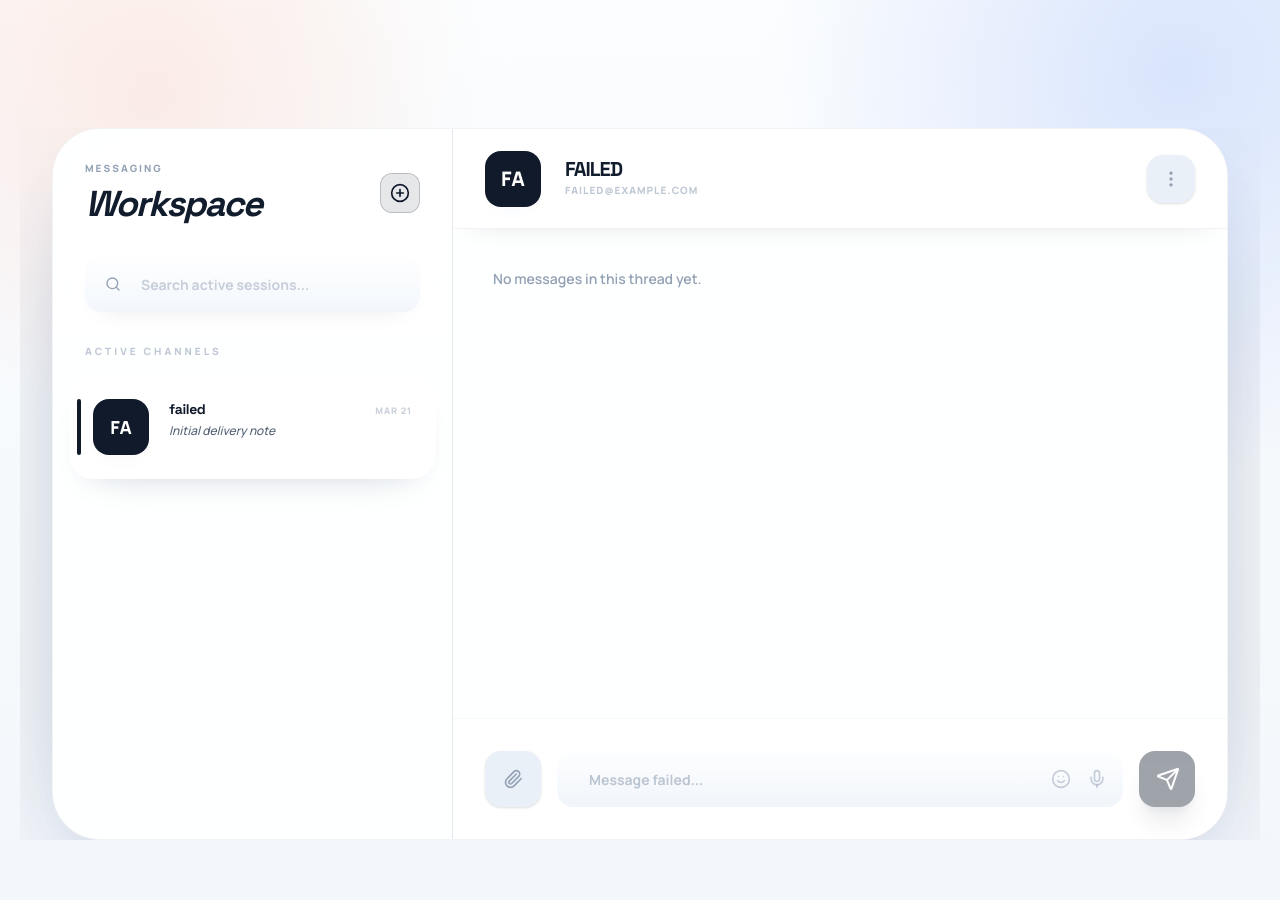
Messaging flow from hiring links › keeps a failed outgoing message in the thread and retries it
This screenshot has width=1280, height=900.
Expected: the text "Initial delivery note" is shown, top-left (169, 422), bottom-right (275, 439)
Type "Retry the brief please." into the field with placeholder "Message failed..." at x=840, y=779, box top-left (557, 751), bottom-right (1123, 807)
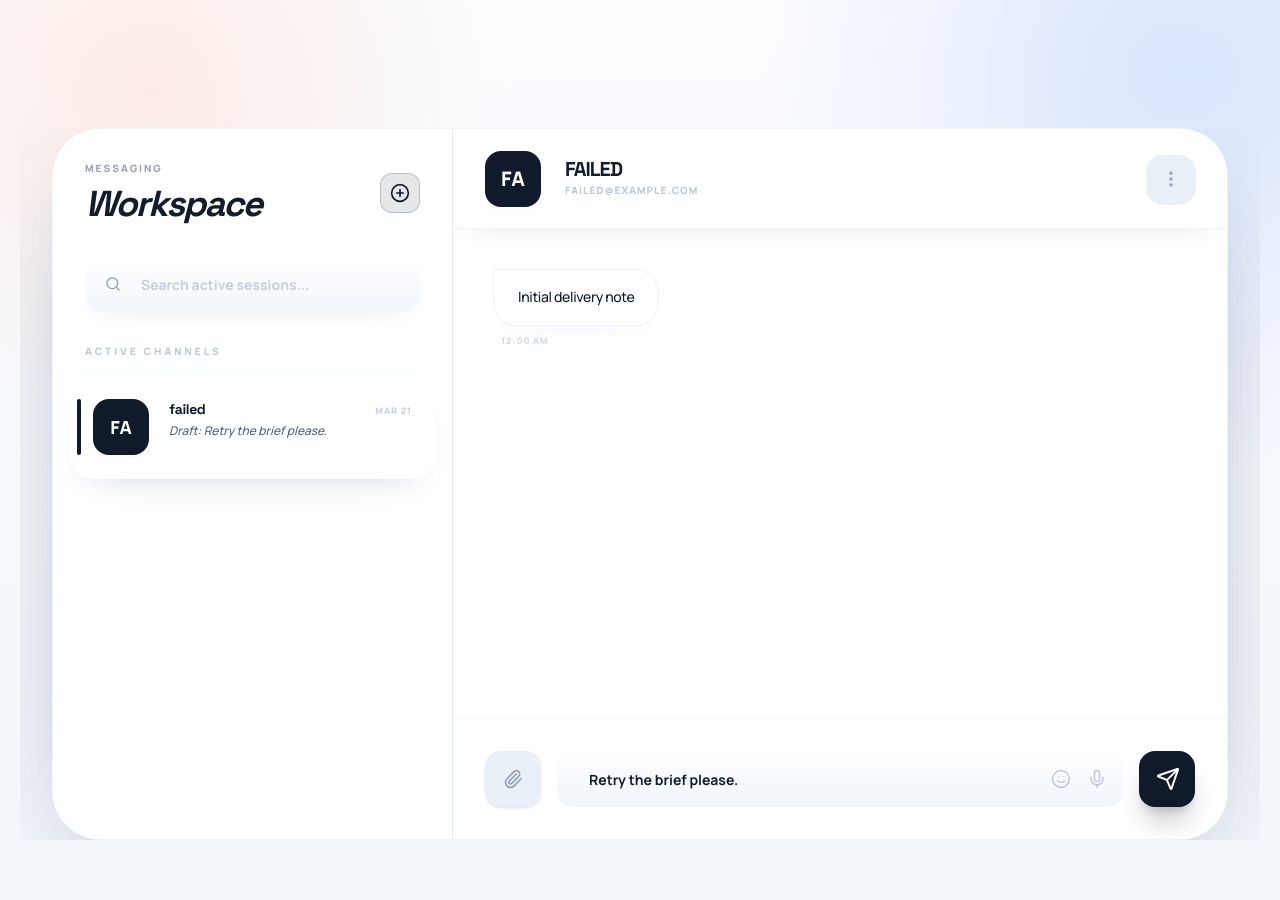
Press Enter in the field with placeholder "Message failed...", box top-left (557, 751), bottom-right (1123, 807)
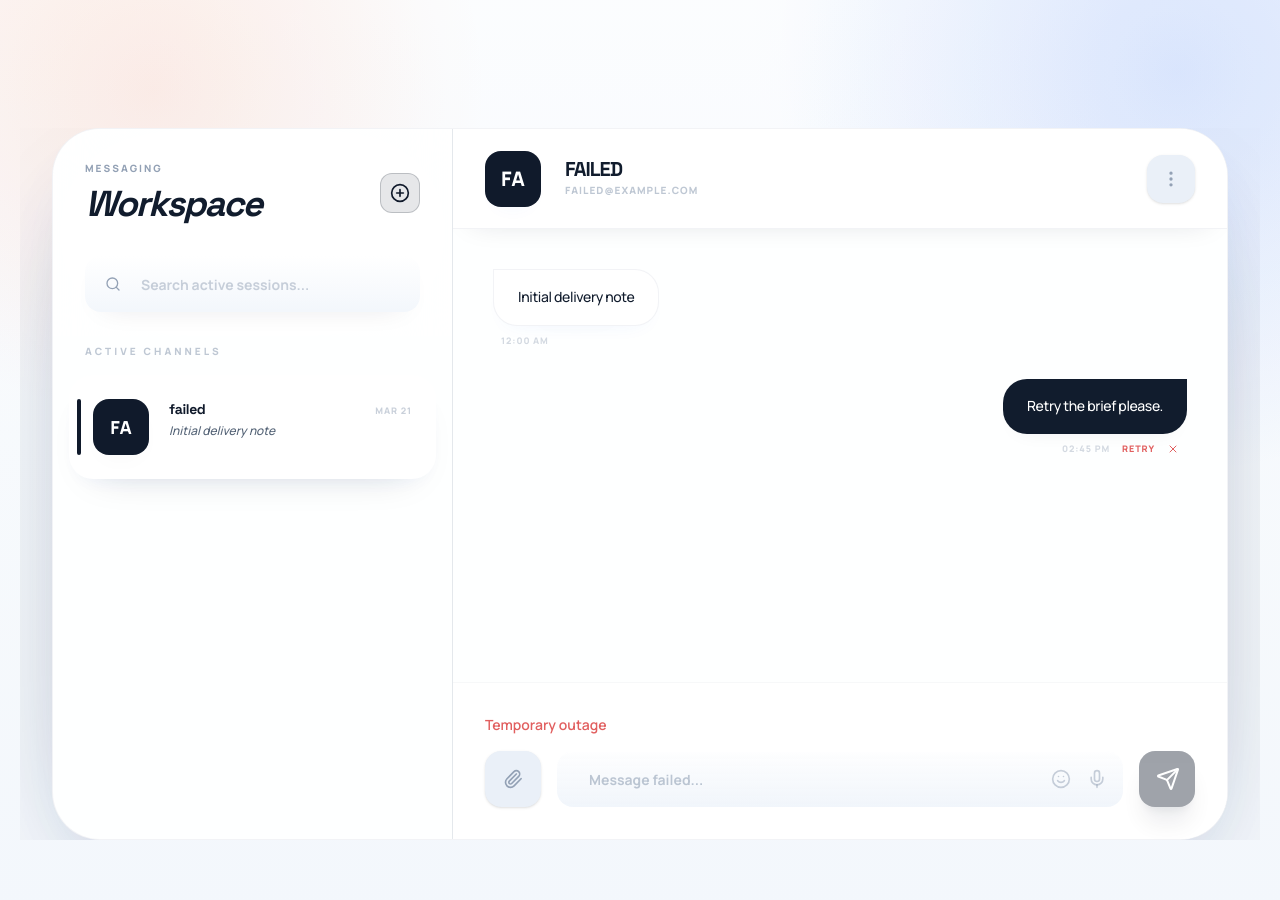
Result: the button "Retry" is shown
Result: the text "Temporary outage" is shown at top-left (485, 715), bottom-right (607, 734)
Result: the text "Retry the brief please." is shown once at top-left (1027, 395), bottom-right (1163, 418)
Click the button "Retry" at x=1139, y=449, box top-left (1122, 442), bottom-right (1155, 456)
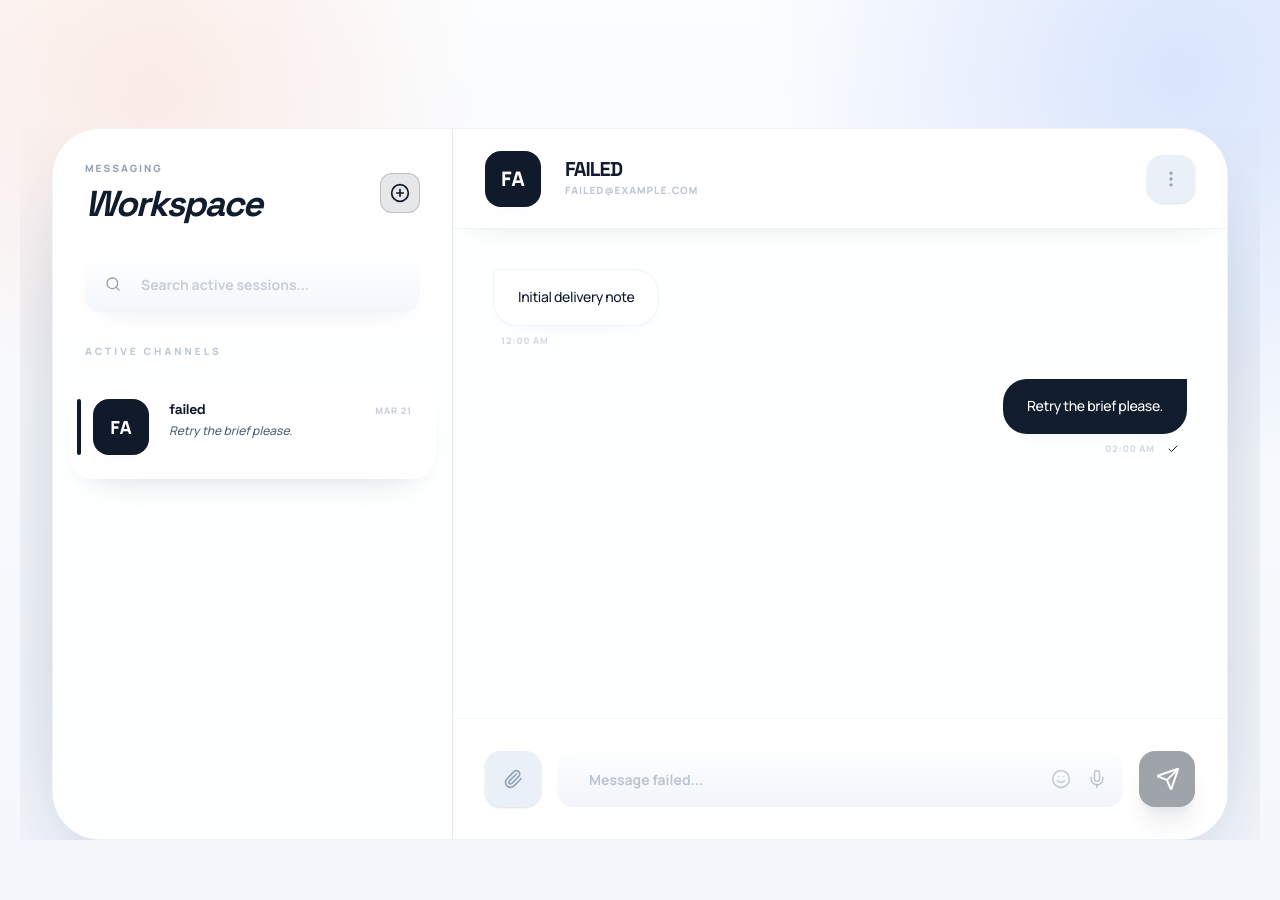
Expected: the text "Retry the brief please." is shown 2 times, top-left (169, 422), bottom-right (292, 439); top-left (1027, 395), bottom-right (1163, 418)
Result: the text "Temporary outage" is gone
